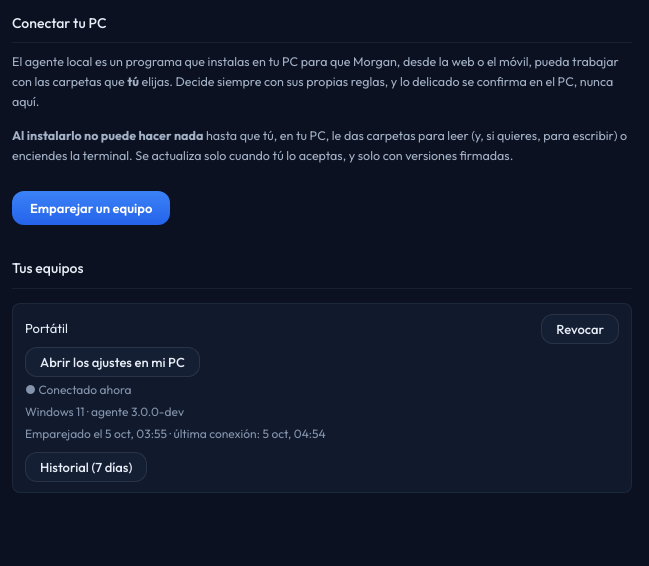
Test case: Tu equipo › el historial se carga al abrirlo, sin argumentos ni contenido (3.7)
Click the button with aria-label "Historial de Portátil". click: (86, 467)
box: [25,452,147,482]
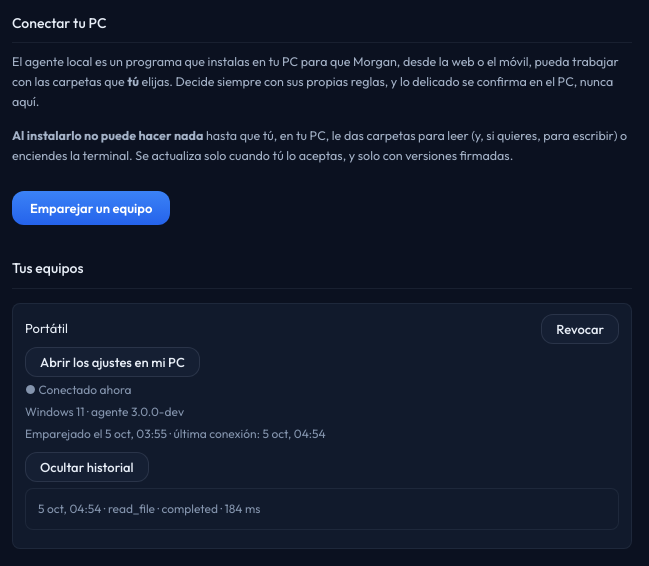
Expected: the text "5 oct, 04:54 · read_file · completed · 184 ms" is shown, [38,501,260,516]
